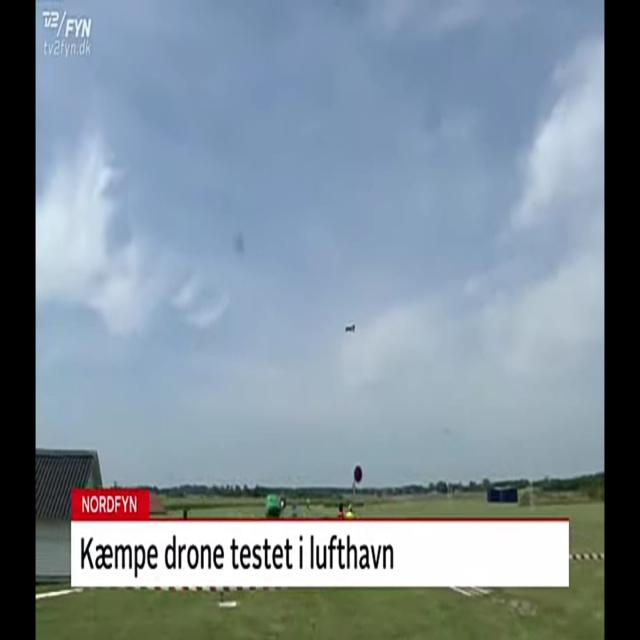iha: (348, 320, 353, 324)
